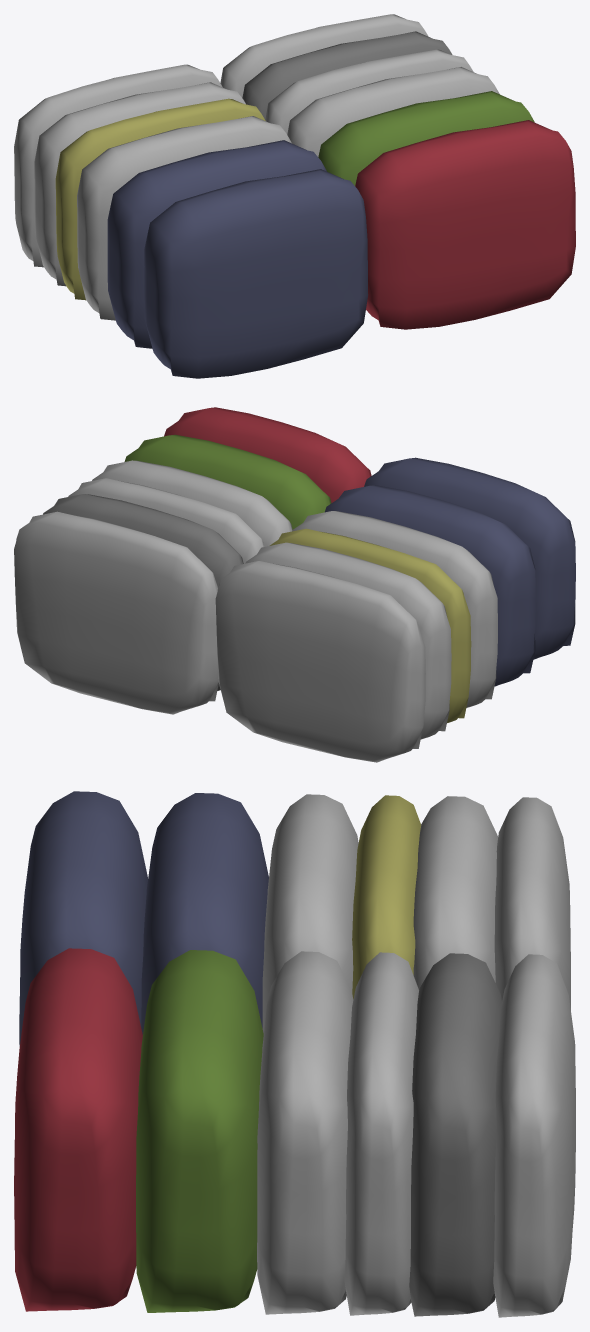
File: Clothes.fbx
The picture shows the model from 3 angles, top to bottom: view 1: azimuth 30°, elevation 25°; view 2: azimuth 150°, elevation 25°; view 3: azimuth 270°, elevation 25°; orthographic projection. The views are drawn at different scales.
Parts seen in each view (by area): view 1: pCube12, pCube14, pCube13, pCube10, pCube17, pCube11, pCube20, pCube19, pCube16, pCube22, pCube21, pCube15; view 2: pCube20, pCube21, pCube12, pCube13, pCube10, pCube19, pCube14, pCube17, pCube11, pCube22, pCube16, pCube15; view 3: pCube14, pCube17, pCube16, pCube22, pCube21, pCube15, pCube12, pCube13, pCube10, pCube19, pCube20, pCube11.
Boxes of the visible parts, x1,y1,x2,y2 form: pCube12: (144, 169, 368, 378); pCube14: (355, 120, 575, 329); pCube13: (107, 140, 326, 348); pCube10: (77, 116, 291, 320); pCube17: (318, 91, 534, 185); pCube11: (55, 98, 265, 300); pCube20: (14, 64, 222, 267); pCube19: (34, 82, 245, 286); pCube16: (287, 67, 499, 156); pCube22: (242, 31, 452, 119); pCube21: (220, 14, 428, 97); pCube15: (265, 49, 473, 134); pCube20: (215, 561, 425, 762); pCube21: (14, 511, 218, 714); pCube12: (364, 457, 575, 659); pCube13: (325, 485, 535, 686); pCube10: (292, 511, 497, 707); pCube19: (245, 542, 451, 739); pCube14: (164, 407, 371, 502); pCube17: (124, 434, 331, 529); pCube11: (269, 528, 471, 722); pCube22: (43, 494, 243, 690); pCube16: (92, 460, 292, 546); pCube15: (68, 478, 264, 563); pCube14: (14, 948, 142, 1311); pCube17: (136, 950, 263, 1312); pCube16: (257, 951, 353, 1314); pCube22: (409, 953, 501, 1316); pCube21: (493, 954, 575, 1317); pCube15: (344, 952, 418, 1315); pCube12: (19, 791, 147, 1046); pCube13: (141, 793, 268, 1034); pCube10: (262, 794, 358, 1033); pCube19: (413, 796, 498, 989); pCube20: (494, 797, 570, 1009); pCube11: (352, 795, 421, 999).
Size of the model in its own units: 66.81 by 26.26 by 49.73.
